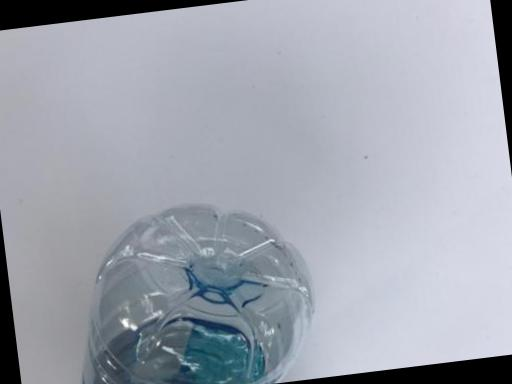plastic: (49, 165, 336, 384)
